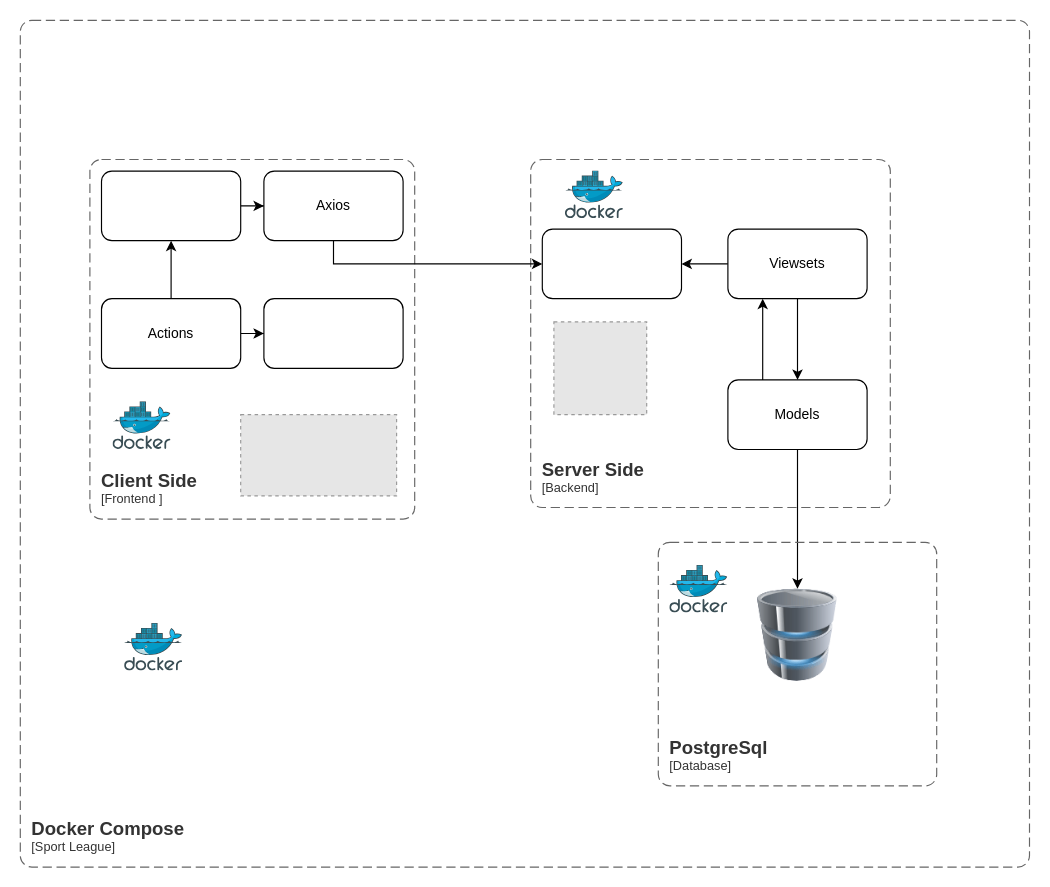
This 1050x887 diagram has some shape labels left out. Grey dashed boxes stand in for pictures. Here are the shapes that lost their labels. From the top down, the centre of each, then its label:
At point 170,205: "Api Service".
At point 611,263: "URLs".
At point 333,333: "Components".
At point 797,634: "PostgreSql".
